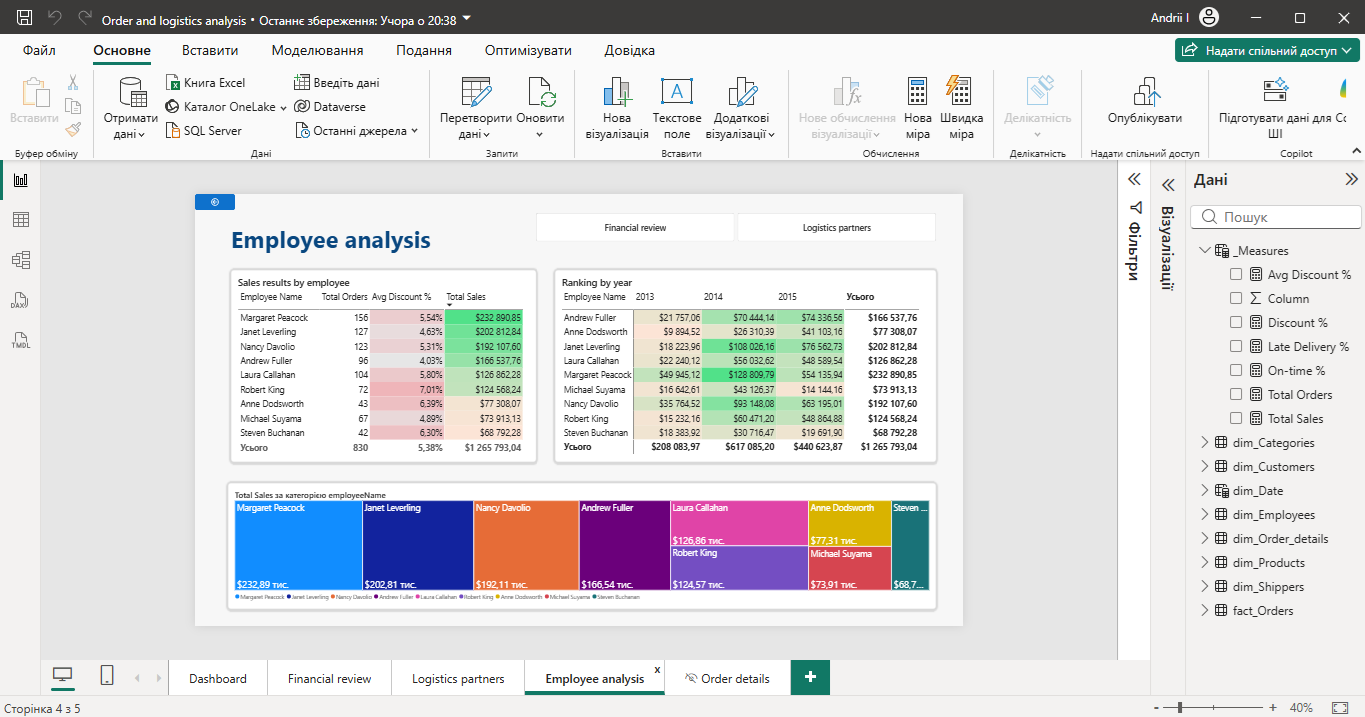

This screenshot's page, from the dashboard's own definition file:
{"tool":"powerbi","page":{"name":"Employee analysis","canvas":[1920,1080],"ordinal":3},"visuals":[{"type":"textbox","box":[196,26,552,94],"z":0},{"type":"pageNavigator","box":[853.2,47.5,1000.1,71.3],"z":1000},{"type":"tableEx","title":"Sales results by employee","fields":{"Values":["dim_Employees.employeeName","_Measures.Total Orders","_Measures.Avg Discount %","_Measures.Total Sales"]},"box":[90,190,762.5,480],"z":2000},{"type":"actionButton","box":[0,0,100,40],"z":3000},{"type":"treemap","fields":{"Group":["dim_Employees.employeeName","dim_Date.Year"],"Values":["_Measures.Total Sales"]},"box":[82.5,722.5,1770,315],"z":4000},{"type":"pivotTable","title":"Ranking by year","fields":{"Rows":["dim_Employees.employeeName"],"Values":["_Measures.Total Sales"],"Columns":["dim_Date.Year"]},"box":[900,190,952.5,480],"z":5000}]}

Visuals, with their boxes on the page's 1920x1080 design canvas (x1, y1, x2, y2). These are canvas units, not pixel positions in the 1365x717 screenshot, which may show the page scaled, cropped or inside an application window:
textbox: (196, 26, 748, 120)
pageNavigator: (853, 48, 1853, 119)
"Sales results by employee" tableEx: (90, 190, 852, 670)
actionButton: (0, 0, 100, 40)
treemap - dim_Employees.employeeName x dim_Date.Year: (82, 722, 1852, 1038)
"Ranking by year" pivotTable: (900, 190, 1852, 670)
